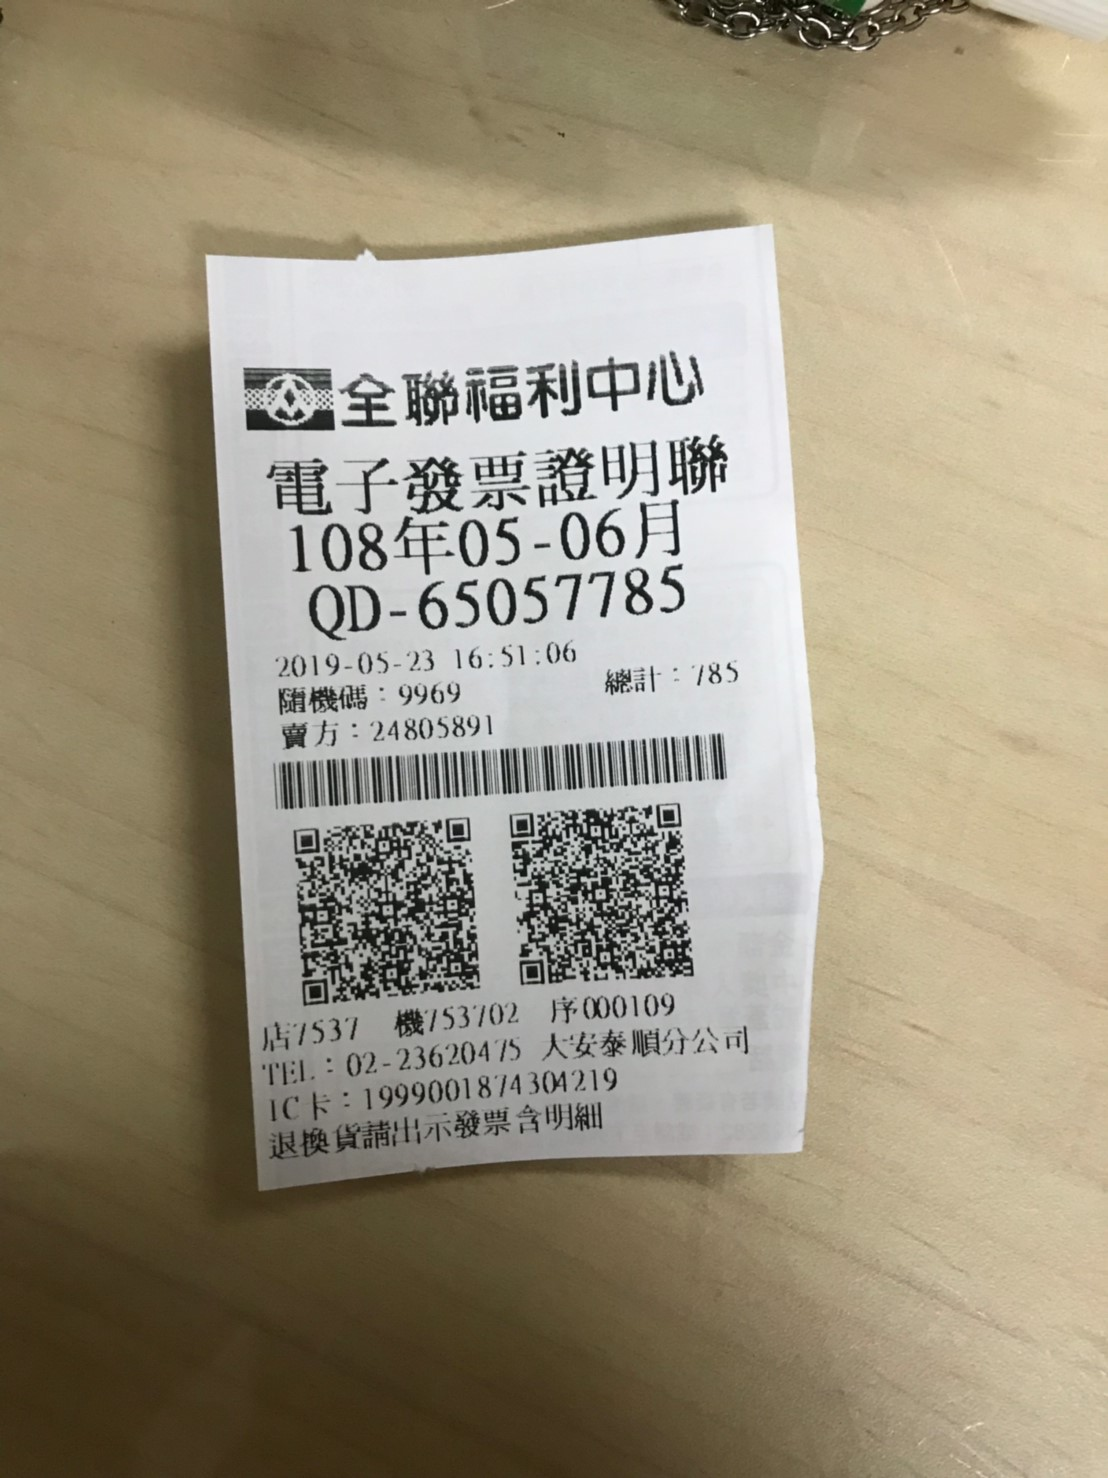Date_New: (283, 498, 696, 574)
Number_New: (411, 562, 684, 632)
